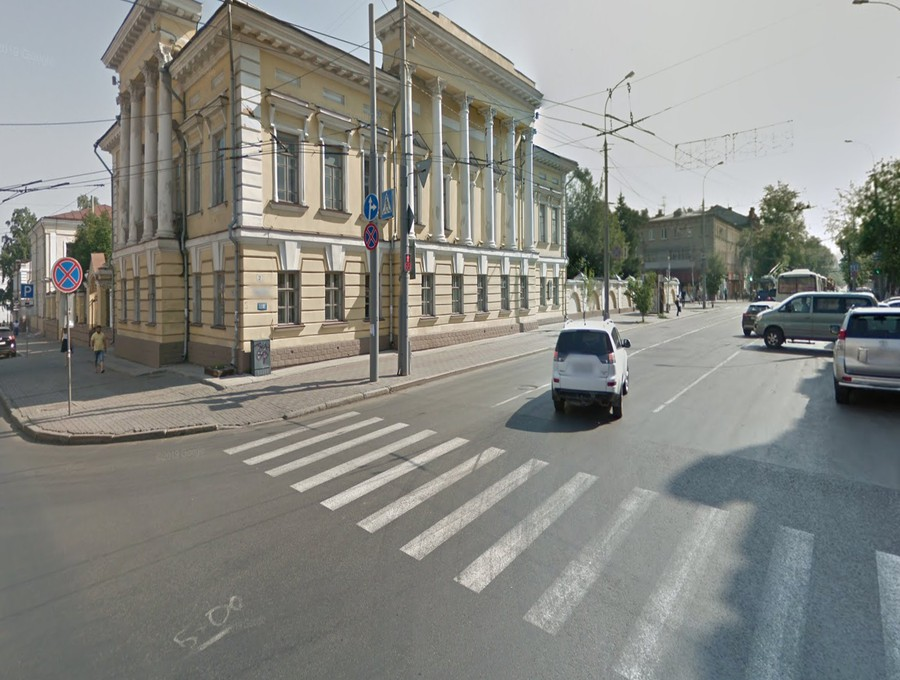Traffic Light-red: (403, 250, 416, 278)
